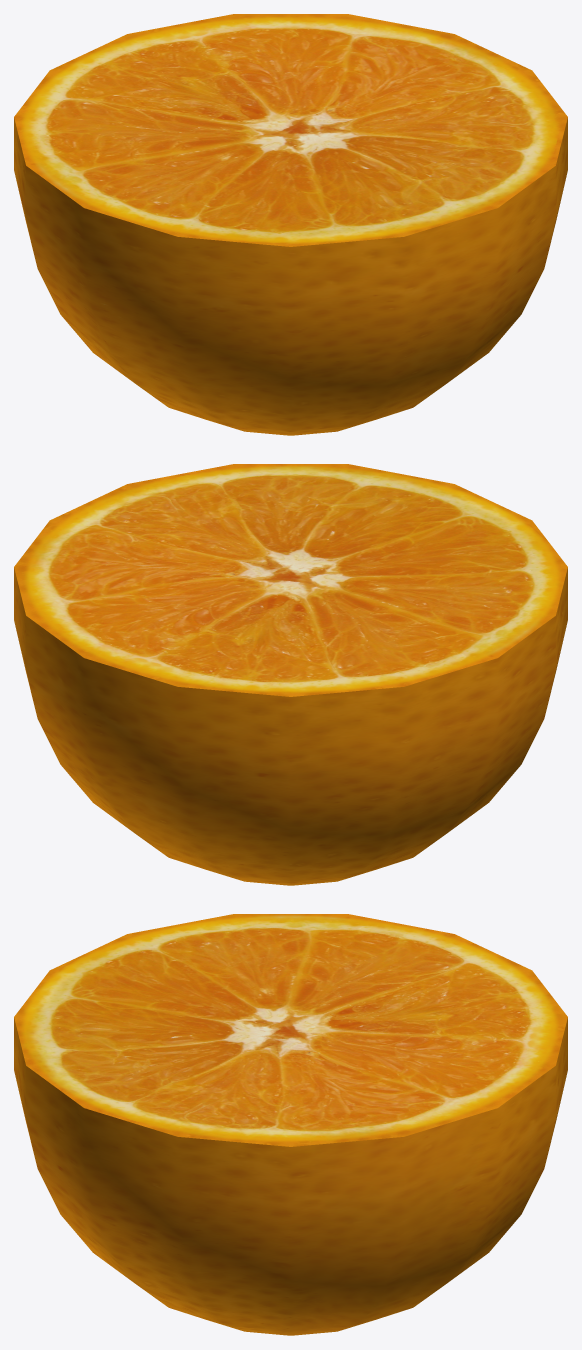
File: OrangeHalf.fbx
3 renders of one model, top to bottom at view 1: azimuth 30°, elevation 25°; view 2: azimuth 150°, elevation 25°; view 3: azimuth 270°, elevation 25°, orthographic.
Parts seen in each view (by area): view 1: Default_Layer; view 2: Default_Layer; view 3: Default_Layer.
Part boxes in pixels (x1=…): Default_Layer: x1=14, y1=14, x2=567, y2=435; Default_Layer: x1=14, y1=464, x2=567, y2=885; Default_Layer: x1=14, y1=914, x2=567, y2=1335.
Bounding box in the file's own units: 24.32 × 13.65 × 24.45.
